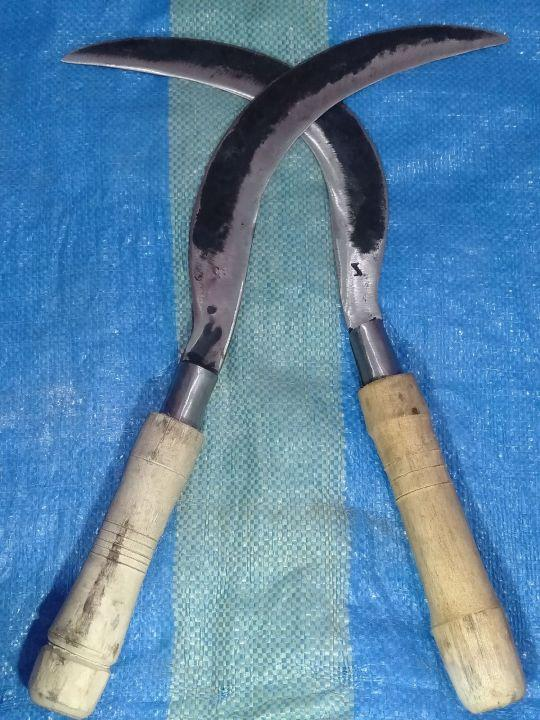foice: (29, 26, 505, 717), (64, 31, 523, 712)
